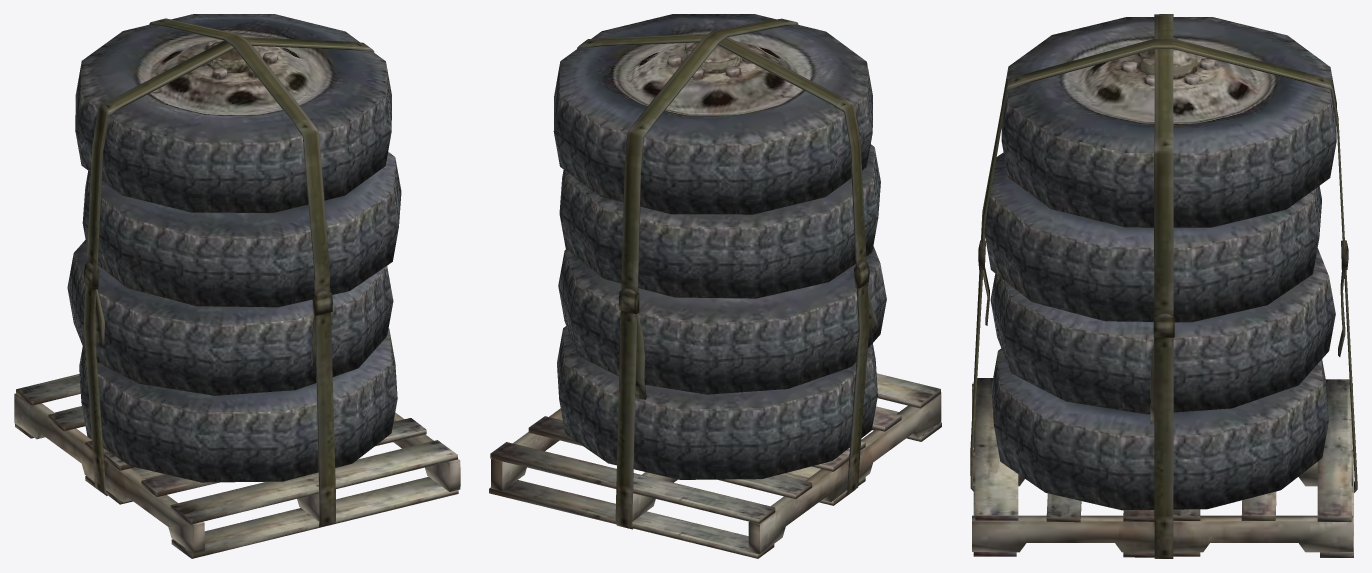
File: tirestack2.glb
3 renders of one model, left to right at view 1: azimuth 30°, elevation 25°; view 2: azimuth 150°, elevation 25°; view 3: azimuth 270°, elevation 25°, orthographic. The views are drawn at different scales.
Parts seen in each view (by area): view 1: 0_tirestack, 1_Wood_PalletCrate001a; view 2: 0_tirestack, 1_Wood_PalletCrate001a; view 3: 0_tirestack, 1_Wood_PalletCrate001a.
Boxes of the visible parts, x1=… form: 0_tirestack: x1=67, y1=14, x2=401, y2=527; 1_Wood_PalletCrate001a: x1=14, y1=374, x2=460, y2=558; 0_tirestack: x1=553, y1=14, x2=886, y2=529; 1_Wood_PalletCrate001a: x1=489, y1=373, x2=941, y2=558; 0_tirestack: x1=970, y1=14, x2=1357, y2=558; 1_Wood_PalletCrate001a: x1=972, y1=378, x2=1353, y2=557.
Size of the model in its own units: 1.32 by 1.84 by 1.45.
2 materials, 2 textured.
